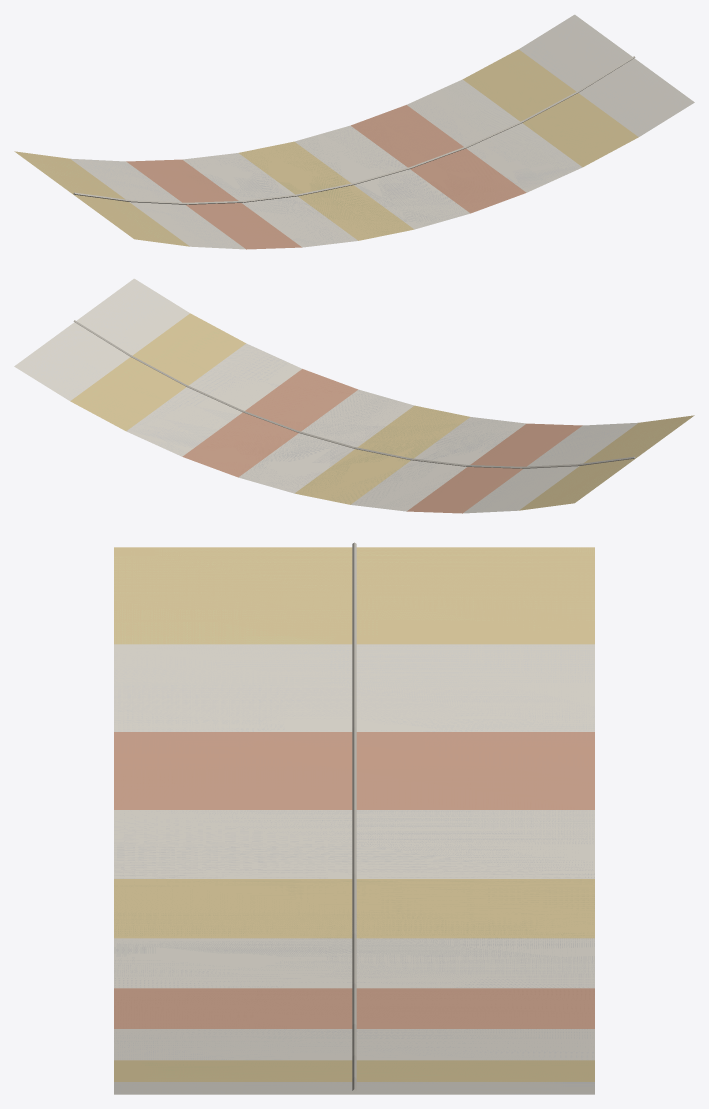
Rendered from canopy.glb.
3 renders of one model, top to bottom at view 1: azimuth 30°, elevation 25°; view 2: azimuth 150°, elevation 25°; view 3: azimuth 270°, elevation 25°, orthographic. The views are drawn at different scales.
Visible parts, largest first — view 1: canopy; view 2: canopy; view 3: canopy.
Part boxes in pixels (x1,y1,x2,y2): canopy: (14, 14, 694, 249); canopy: (14, 278, 694, 513); canopy: (114, 542, 594, 1094).
Size of the model in its own units: 7.01 by 0.7313 by 2.6.
